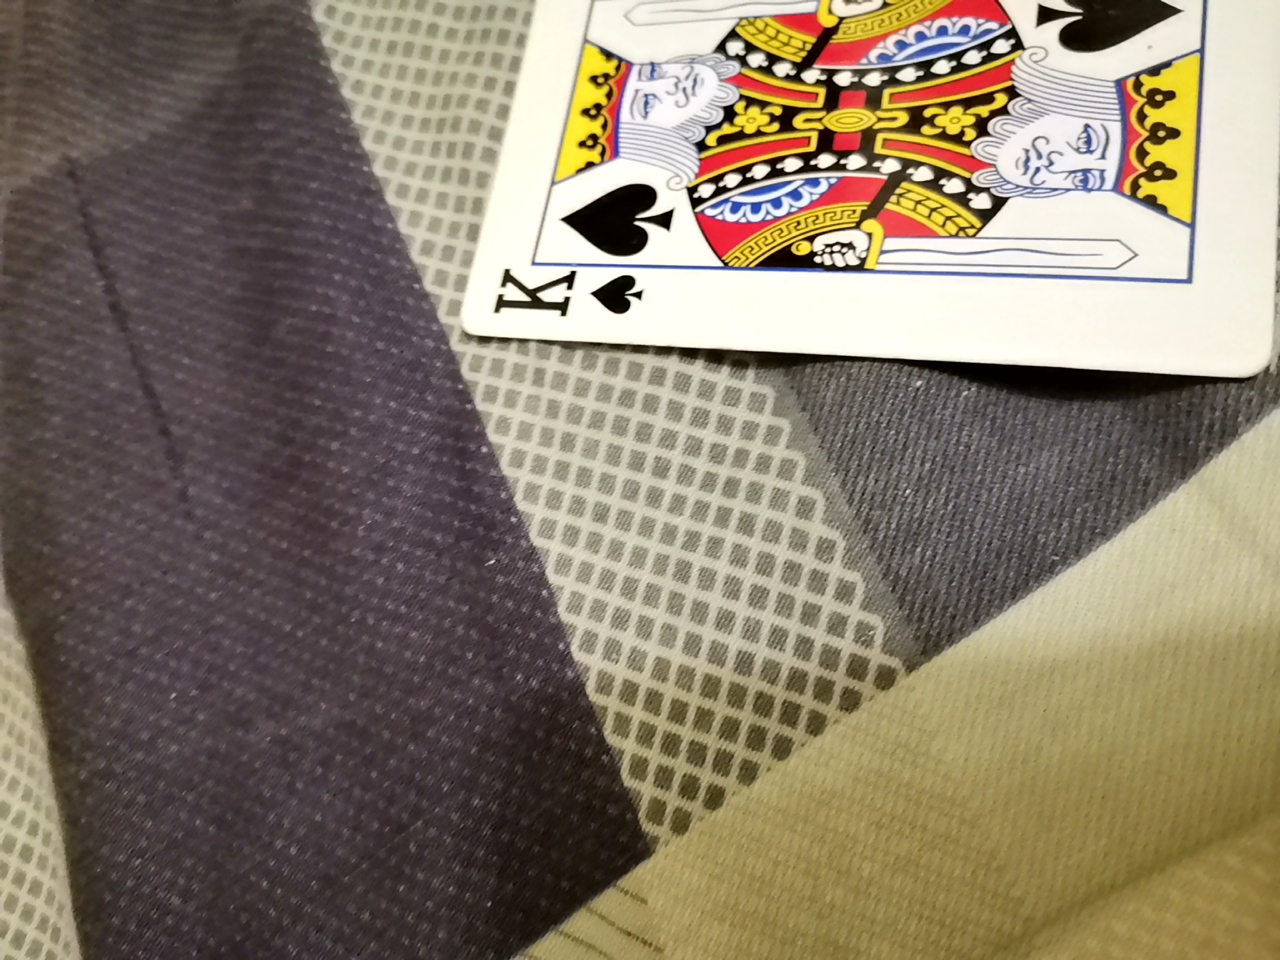ht k: (463, 10, 1272, 378)
